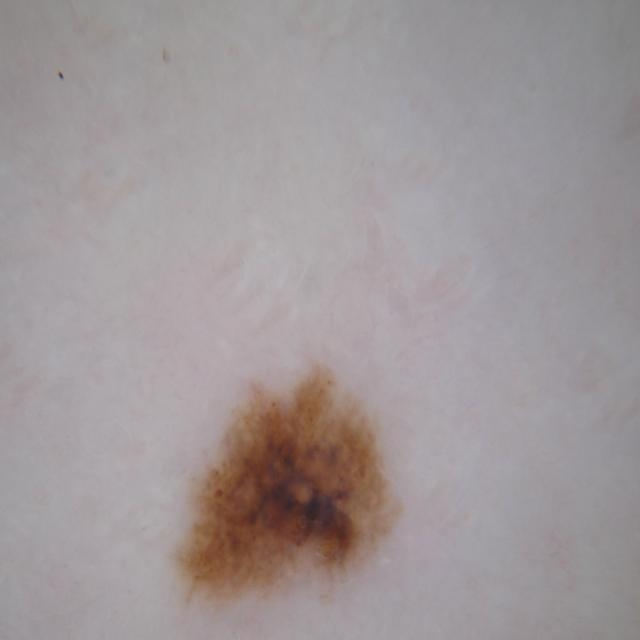Melanoma: (169, 346, 412, 640)
